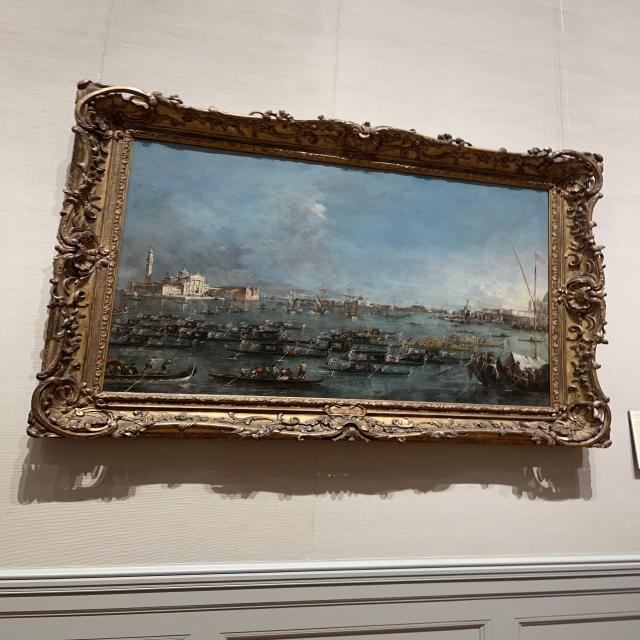ships: (104, 137, 552, 406)
